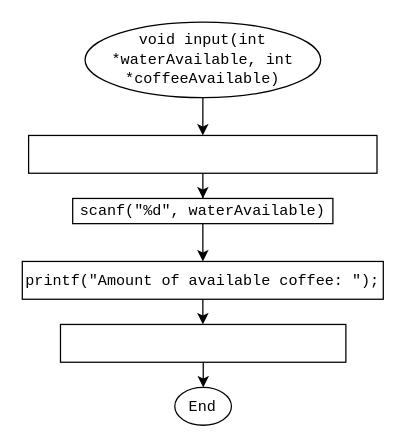
This 406x447 diagram has some shape labels left out. The shapes that lost their labels are listed below. From the top down, each one's box as (x1, y1, x2, y2) in pixels, then its label:
(27, 134, 377, 173): printf("Amount of available water: ")
(59, 323, 346, 362): scanf("%d", coffeeAvailable);
